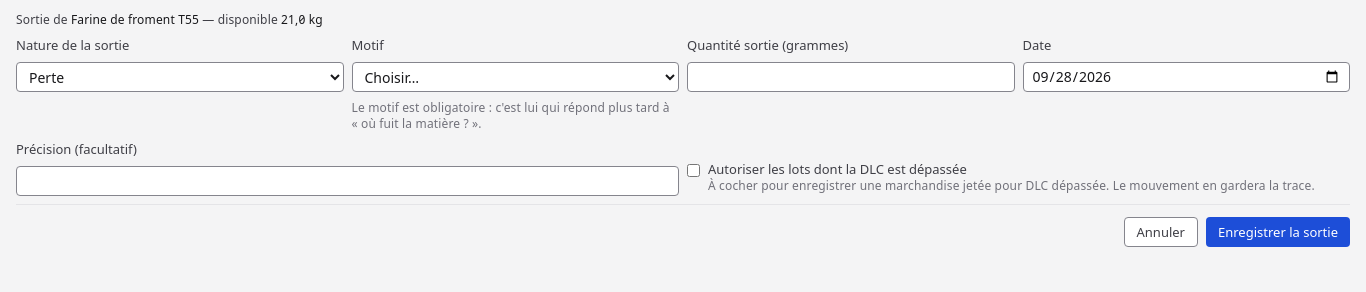
Test: SaisieSortie — refus de saisie : aucun appel réseau ne part sur un formulaire incomplet › le message de refus du motif s’affiche désormais au CLIC, pas seulement au Ctrl+S
In the field labelled "Quantité sortie (grammes)": (851, 77) [687, 62, 1014, 92], type "500"
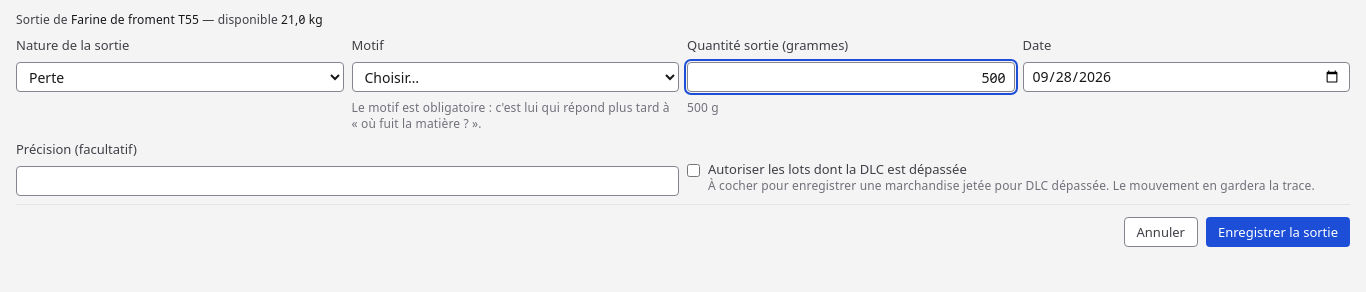
Click the button "Enregistrer la sortie": (1278, 232) [1206, 217, 1350, 247]
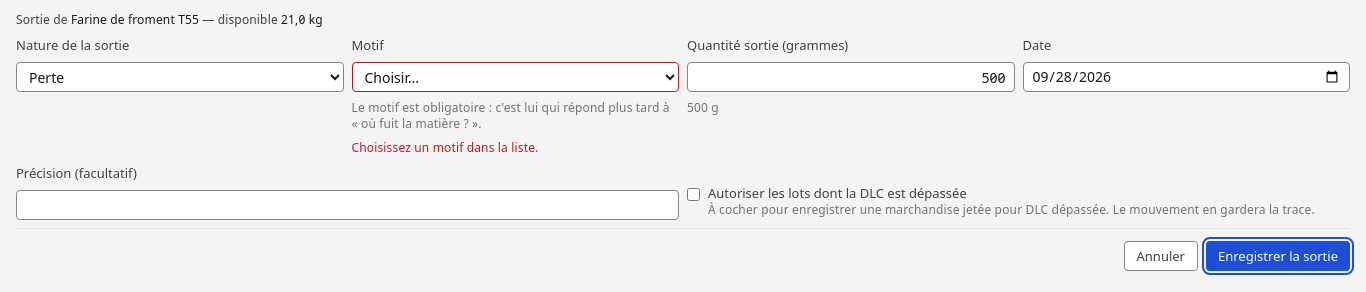
Result: the text "Choisissez un motif dans la liste." is shown at [352, 139, 538, 156]
